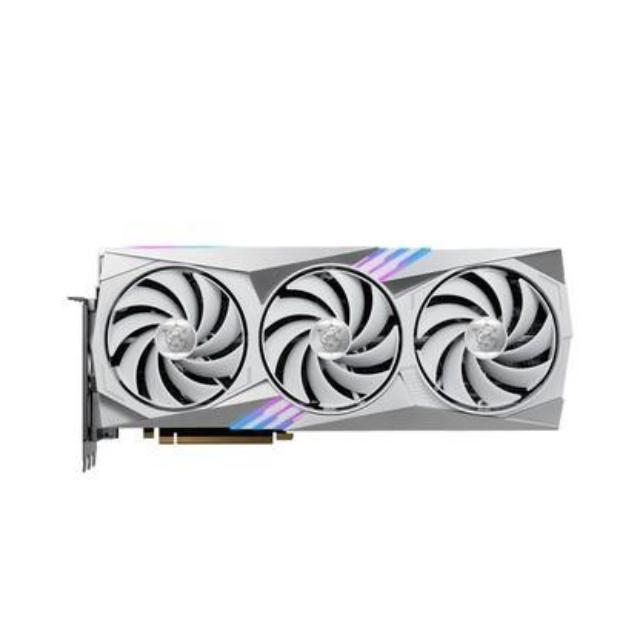GPU: (67, 238, 575, 454)
